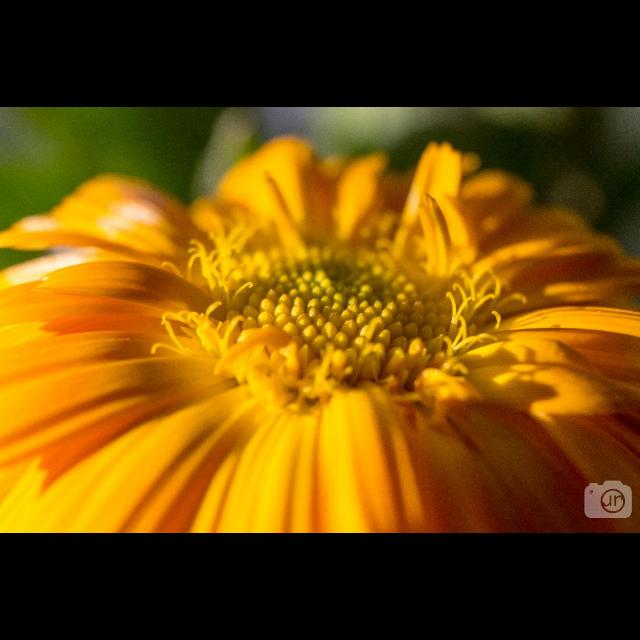Flower: (1, 137, 640, 533)
